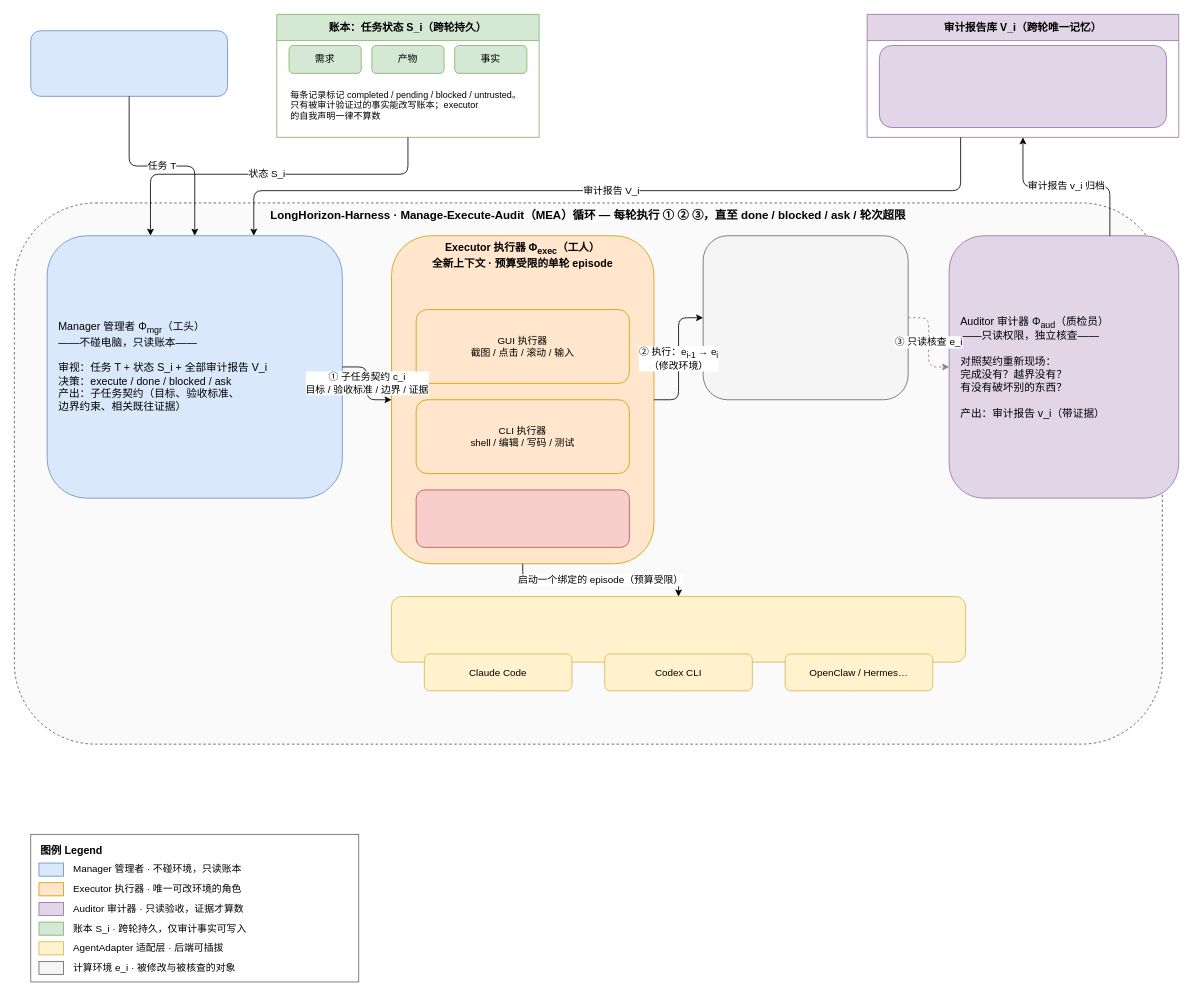
The diagram is 1193 pixels wide and 996 high, and some of its shapes have lost their labels. Here are the shapes that lost their labels. From the top down, the centre of each, then its label:
At (129,63): "原始任务 T （需求 / 约束集合）".
At (1022,86): "审计报告 v1 … vi，每份带独立证据链 （文件状态、屏幕截图、元数据）".
At (805,317): "计算环境 e_i 应用 / 窗口 / 文件 / 进程 / 系统".
At (522,518): "轮毕即弃：episode 的原始轨迹与内部推理 全部丢弃，只把执行报告 o_i 交出去审计".
At (678,629): "AgentAdapter 适配层（轻量） 不替换后端原生智能体循环 · 模型/后端可插拔".
